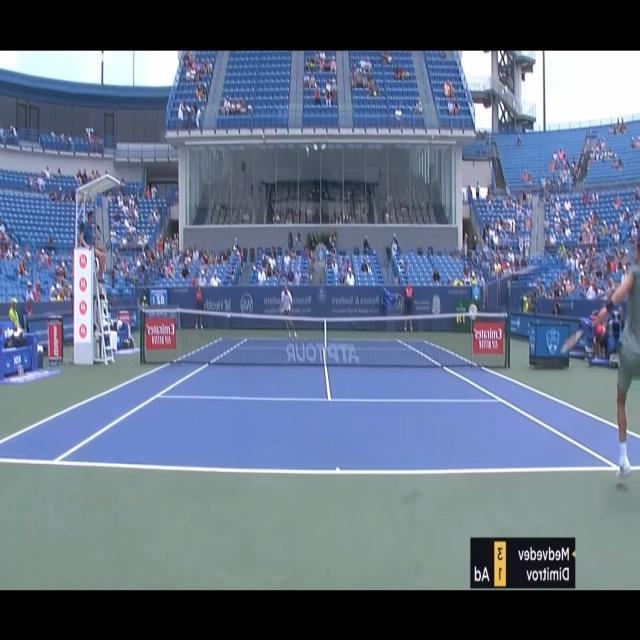court: (1, 338, 640, 477)
net: (135, 307, 512, 369)
player: (559, 234, 640, 487)
